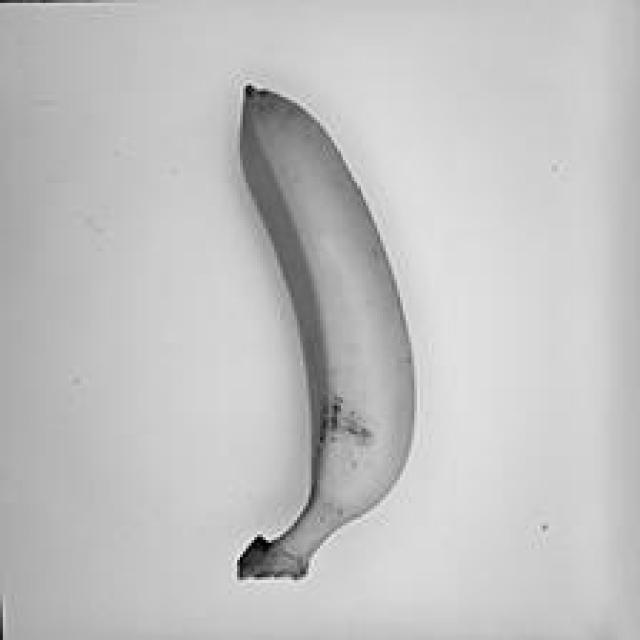Unripe: (179, 69, 468, 601)
